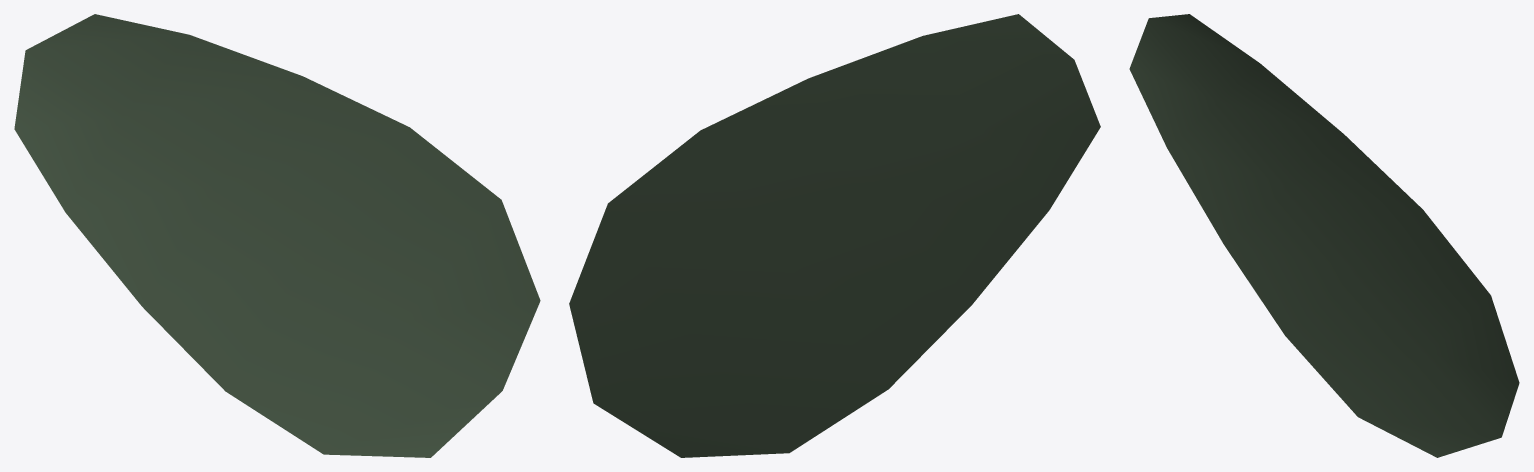
The model's file is duck_feather_flight_tertiary_059.obj.
3 renders of one model, left to right at view 1: azimuth 30°, elevation 25°; view 2: azimuth 150°, elevation 25°; view 3: azimuth 330°, elevation 25°, orthographic. The views are drawn at different scales.
Visible parts, largest first — view 1: feather_flight_tertiary_059; view 2: feather_flight_tertiary_059; view 3: feather_flight_tertiary_059.
Boxes of the visible parts, x1,y1,x2,y2 form: feather_flight_tertiary_059: (14, 14, 540, 457); feather_flight_tertiary_059: (569, 14, 1100, 457); feather_flight_tertiary_059: (1129, 14, 1519, 457).
Size of the model in its own units: 0.0266 by 0.0253 by 0.000969.
